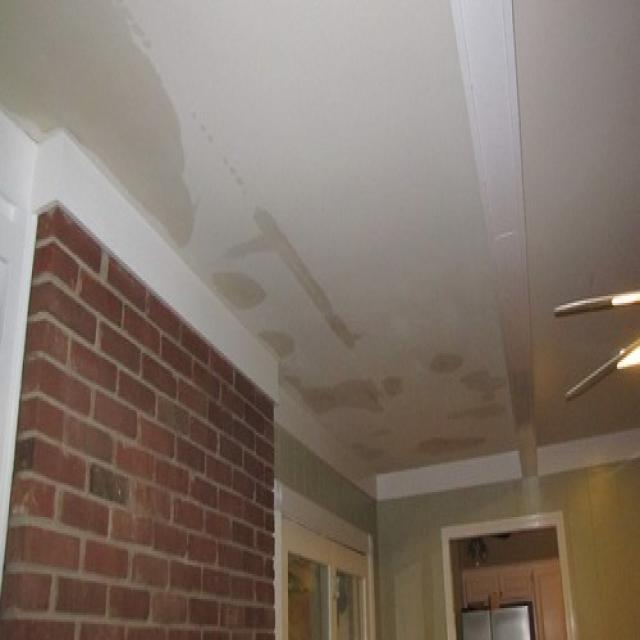tile: (206, 202, 532, 459), (3, 2, 197, 245)
